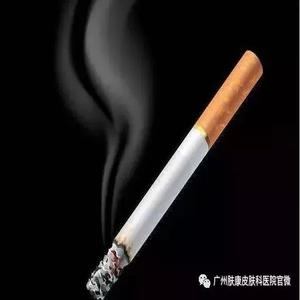cigarette: (86, 48, 265, 299)
